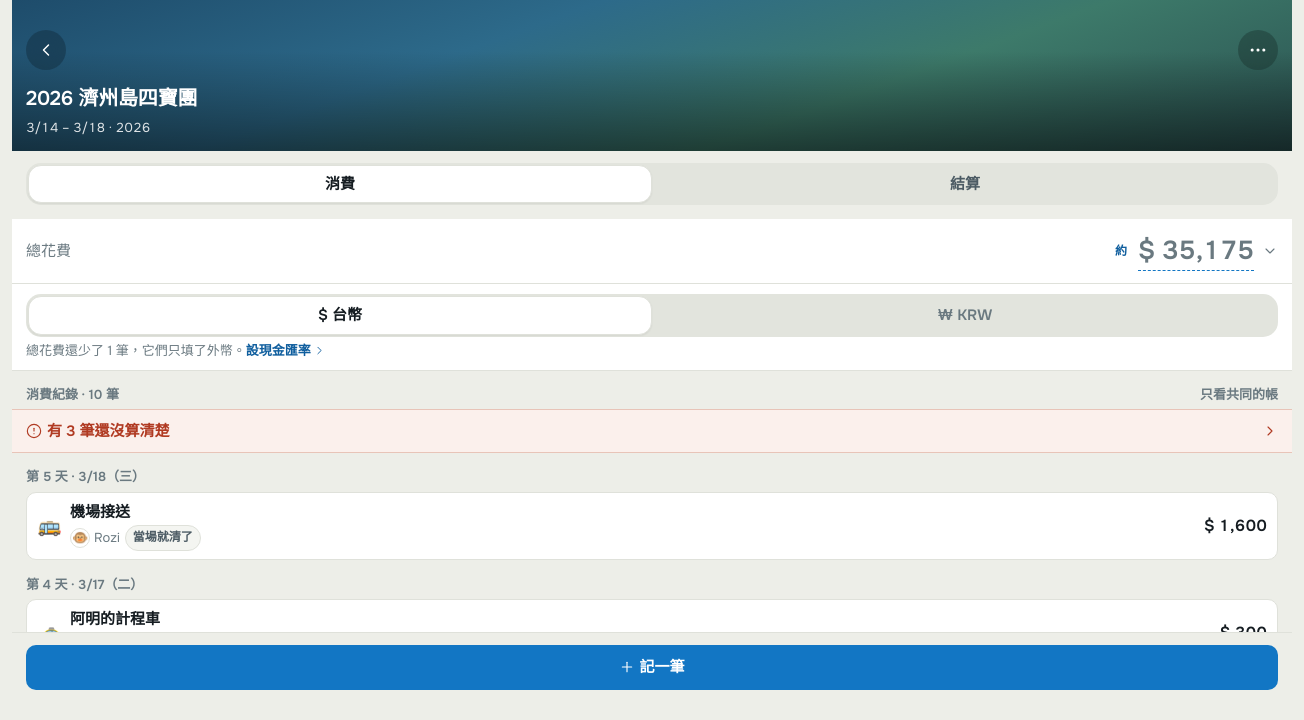
Test: B-3　S-03 行程頁 › S-03-31／32　⋯ 選單：編輯／分享／複製／刪除都在裡面，刪除是唯一著色的一項
Click the button named "更多". click: (1258, 50)
box: [1238,30,1278,70]
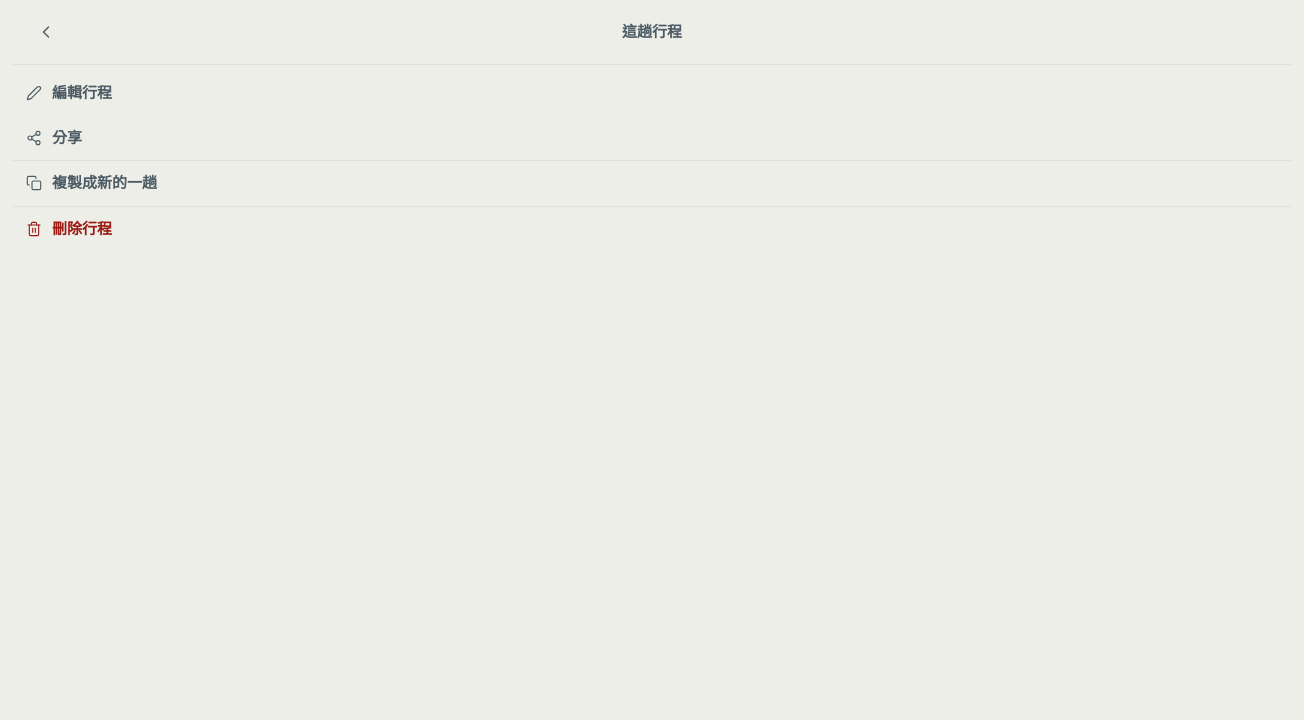
Expected: the text "編輯行程" is shown, [52,82,112,104]
Expected: the text "分享" is shown, [52,126,82,149]
Expected: the text "複製成新的一趟" is shown, [52,172,157,194]
